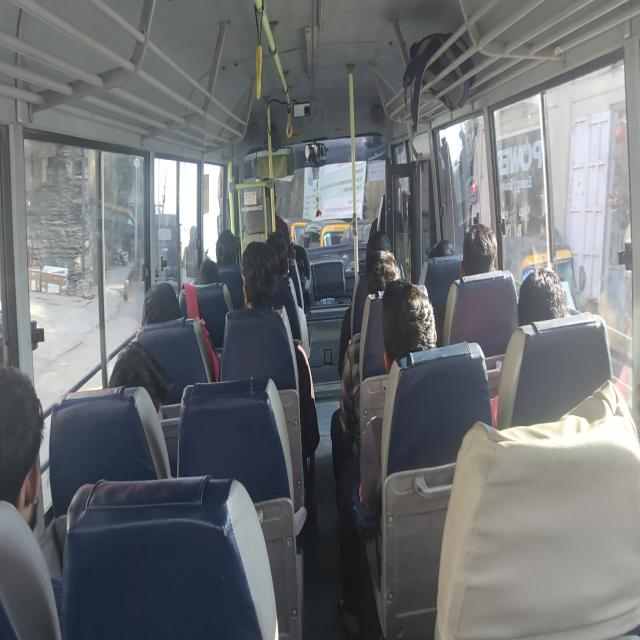person: (434, 378, 639, 638), (335, 278, 437, 636), (240, 240, 320, 526), (0, 364, 62, 638), (491, 266, 570, 426), (338, 231, 391, 377), (0, 363, 45, 526), (441, 223, 498, 345), (108, 339, 174, 419), (381, 278, 437, 372), (517, 266, 570, 326), (460, 223, 498, 277), (141, 280, 181, 325), (366, 249, 402, 292), (183, 225, 205, 278), (215, 229, 240, 266), (197, 258, 220, 285)
